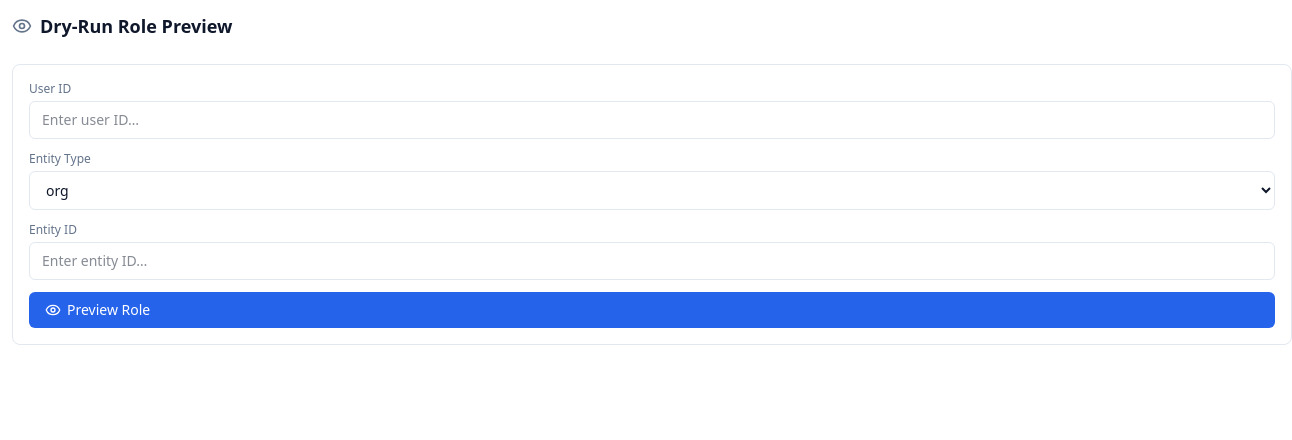
Test: RBACPolicyPreview › shows error message on preview failure
The image size is (1292, 440).
Type "user-123" into the field with test id "preview-user-id" at (652, 120), box [29,101,1275,139]
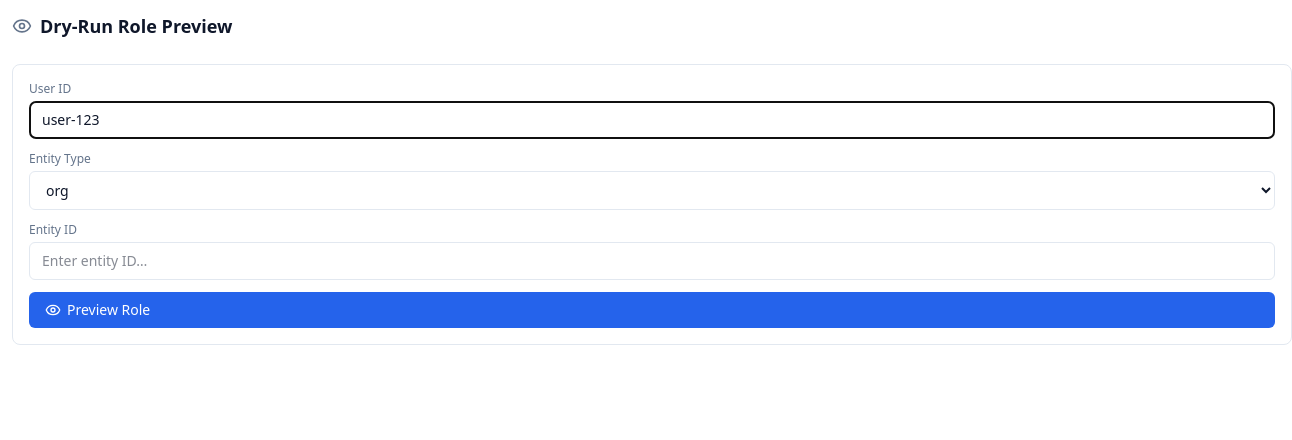
Type "org-456" into the field with test id "preview-entity-id" at (652, 261), box [29,242,1275,280]
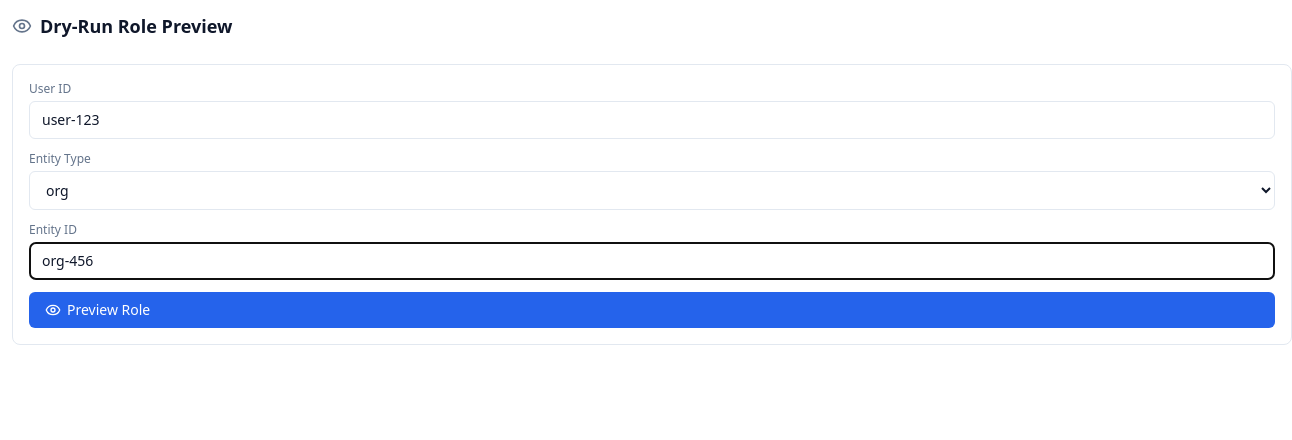
Click the button with test id "preview-submit-btn" at (109, 310), box [29,292,1275,328]
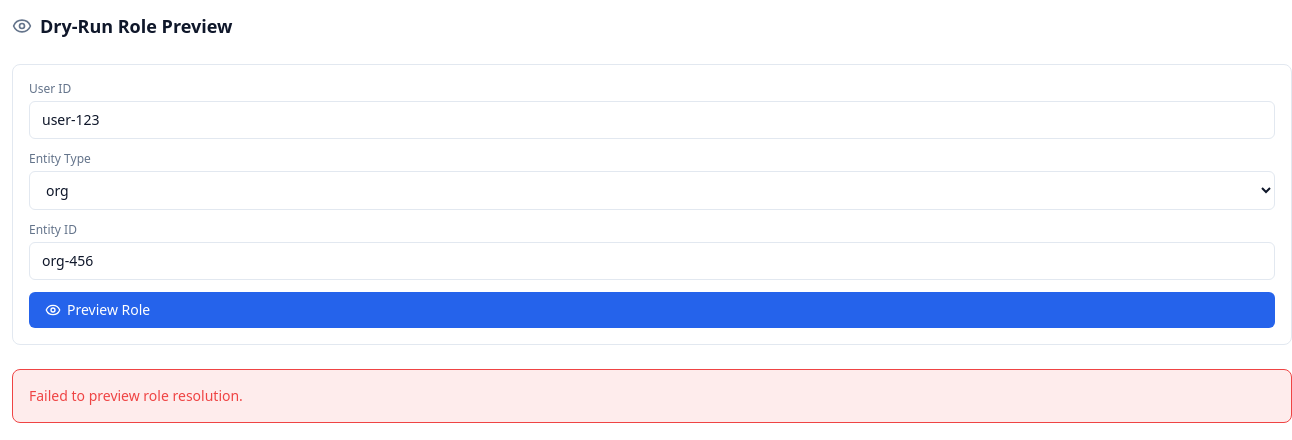
Now the text "Failed to preview role resolution." is shown, box [12,369,1291,423]
